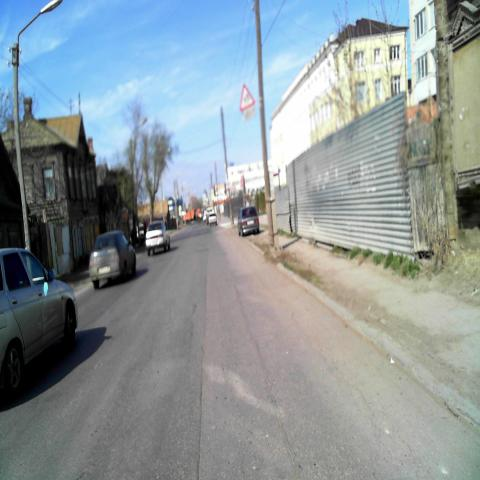1_23: (239, 83, 255, 110)
